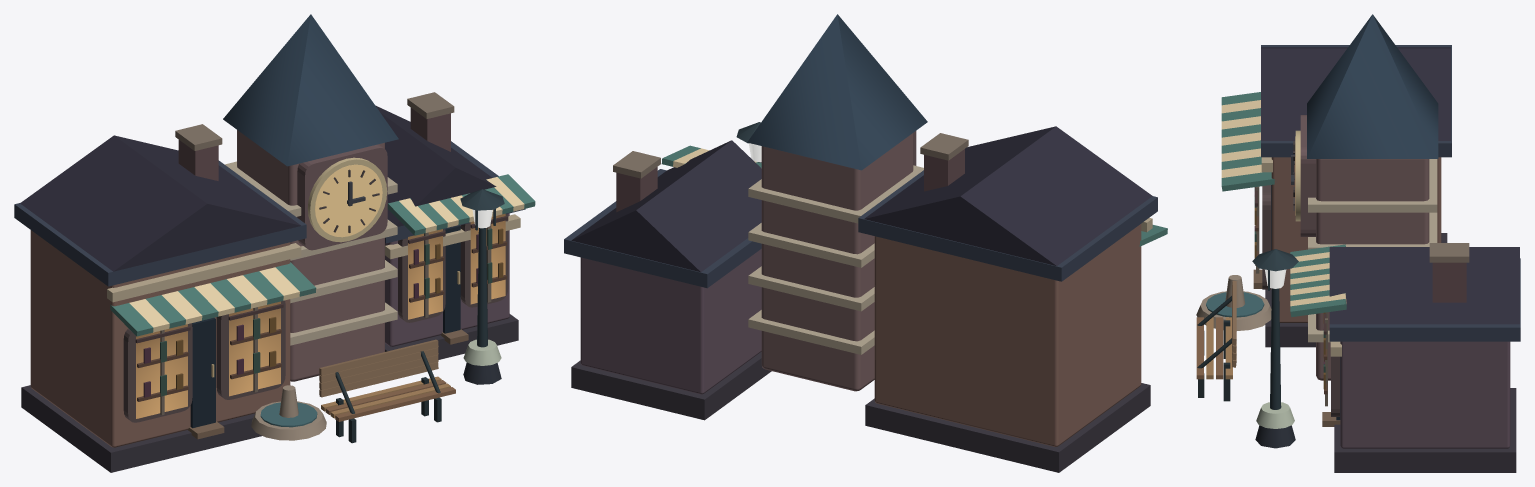
File: oldtown-map.glb
The picture shows the model from 3 angles, left to right: view 1: azimuth 30°, elevation 25°; view 2: azimuth 150°, elevation 25°; view 3: azimuth 270°, elevation 25°; orthographic projection. The views are drawn at different scales.
Visible parts, largest first — view 1: shopfront, place-static, large-place-glows; view 2: place-static, shopfront; view 3: place-static, shopfront.
Part boxes in pixels (x1,y1,x2,y2): shopfront: (14,124,316,472); place-static: (223,14,535,443); large-place-glows: (136,164,505,418); place-static: (564,14,927,420); shopfront: (858,126,1167,472); place-static: (1196,14,1520,472); shopfront: (1221,45,1451,347).
Bounding box in the file's own units: 6.56 × 4.98 × 4.01.
